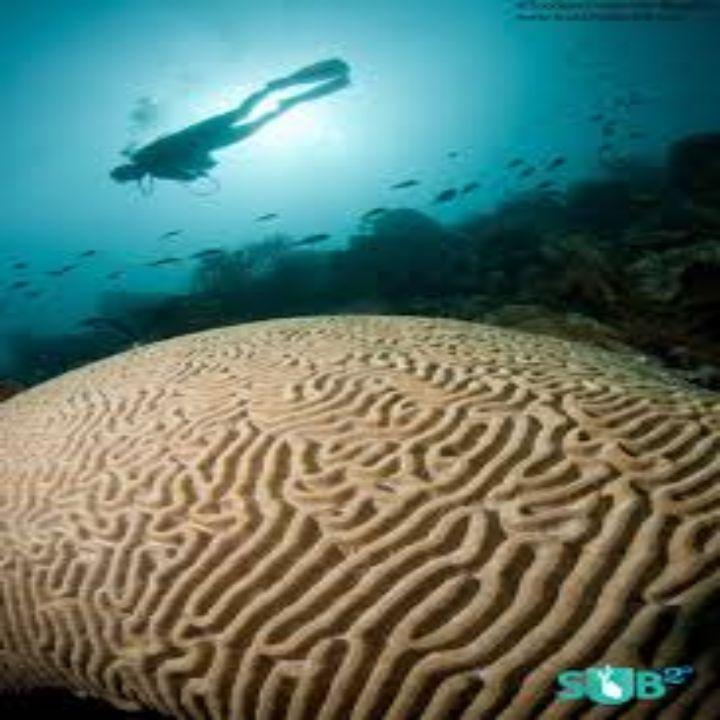Healthy Coral: (24, 310, 692, 671)
